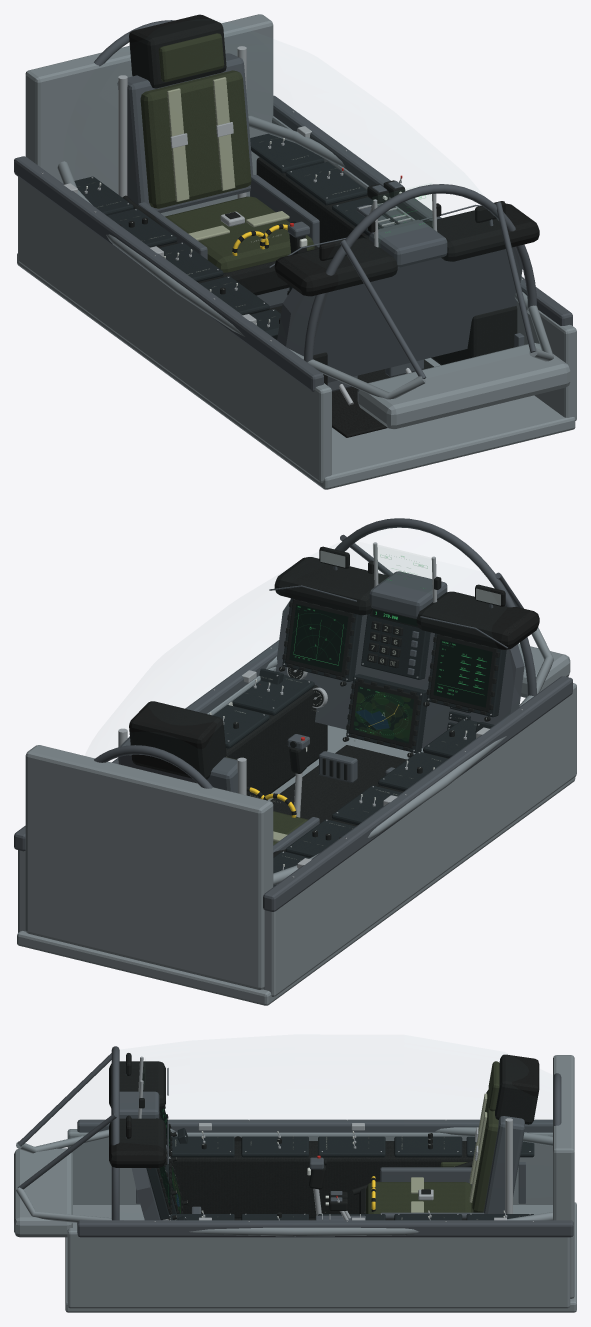
The model's file is FA18C_Cockpit.glb.
The picture shows the model from 3 angles, top to bottom: view 1: azimuth 30°, elevation 25°; view 2: azimuth 150°, elevation 25°; view 3: azimuth 270°, elevation 25°; orthographic projection. The views are drawn at different scales.
Parts seen in each view (by area): view 1: Cockpit_Static_CP_Structure_Grey, Cockpit_Static_CP_Edge_Anodized, Cockpit_Static_CP_Rubber, Cockpit_Static_CP_Seat_Olive, Cockpit_Static_CP_Panel_Charcoal, Canopy_Pivot_CP_Edge_Anodized, Cockpit_Static_CP_Harness_Sand, Canopy_Pivot_CP_Structure_Grey, Cockpit_Static_CP_Hardware_Steel; view 2: Cockpit_Static_CP_Structure_Grey, Cockpit_Static_CP_Rubber, Cockpit_Static_CP_Edge_Anodized, Cockpit_Static_CP_Panel_Charcoal, Canopy_Pivot_CP_Edge_Anodized, DDI_Right_Surface, DDI_Left_Surface, AMPCD_Surface, Canopy_Pivot_CP_Structure_Grey, Cockpit_Static_CP_Hardware_Steel, Rudder_Pedal_Left_CP_Edge_Anodized; view 3: Cockpit_Static_CP_Structure_Grey, Cockpit_Static_CP_Edge_Anodized, Cockpit_Static_CP_Rubber, Cockpit_Static_CP_Panel_Charcoal, Cockpit_Static_CP_Seat_Olive, Canopy_Pivot_CP_Structure_Grey, Canopy_Pivot_CP_Edge_Anodized, Cockpit_Static_CP_Hardware_Steel, Cockpit_Static_CP_Harness_Sand, Canopy_Pivot_CP_Hardware_Steel.
Boxes of the visible parts, left/top/right/bottom form: Cockpit_Static_CP_Structure_Grey: left=17, top=14, right=576, bottom=489; Cockpit_Static_CP_Edge_Anodized: left=14, top=53, right=572, bottom=391; Cockpit_Static_CP_Rubber: left=42, top=14, right=539, bottom=437; Cockpit_Static_CP_Seat_Olive: left=140, top=33, right=314, bottom=272; Cockpit_Static_CP_Panel_Charcoal: left=74, top=133, right=396, bottom=339; Canopy_Pivot_CP_Edge_Anodized: left=94, top=20, right=536, bottom=362; Cockpit_Static_CP_Harness_Sand: left=167, top=77, right=289, bottom=240; Canopy_Pivot_CP_Structure_Grey: left=57, top=116, right=529, bottom=359; Cockpit_Static_CP_Hardware_Steel: left=41, top=46, right=522, bottom=341; Cockpit_Static_CP_Structure_Grey: left=17, top=627, right=576, bottom=1005; Cockpit_Static_CP_Rubber: left=129, top=546, right=539, bottom=857; Cockpit_Static_CP_Edge_Anodized: left=14, top=534, right=572, bottom=911; Cockpit_Static_CP_Panel_Charcoal: left=213, top=598, right=506, bottom=886; Canopy_Pivot_CP_Edge_Anodized: left=94, top=518, right=536, bottom=788; DDI_Right_Surface: left=433, top=639, right=492, bottom=707; DDI_Left_Surface: left=289, top=604, right=348, bottom=672; AMPCD_Surface: left=353, top=686, right=413, bottom=743; Canopy_Pivot_CP_Structure_Grey: left=266, top=656, right=533, bottom=885; Cockpit_Static_CP_Hardware_Steel: left=118, top=542, right=522, bottom=877; Rudder_Pedal_Left_CP_Edge_Anodized: left=319, top=751, right=357, bottom=782; Cockpit_Static_CP_Structure_Grey: left=14, top=1055, right=576, bottom=1312; Cockpit_Static_CP_Edge_Anodized: left=17, top=1053, right=573, bottom=1237; Cockpit_Static_CP_Rubber: left=109, top=1053, right=539, bottom=1220; Cockpit_Static_CP_Panel_Charcoal: left=146, top=1128, right=534, bottom=1220; Cockpit_Static_CP_Seat_Olive: left=366, top=1061, right=499, bottom=1213; Canopy_Pivot_CP_Structure_Grey: left=120, top=1127, right=552, bottom=1236; Canopy_Pivot_CP_Edge_Anodized: left=111, top=1046, right=561, bottom=1220; Cockpit_Static_CP_Hardware_Steel: left=138, top=1056, right=533, bottom=1221; Cockpit_Static_CP_Harness_Sand: left=410, top=1093, right=487, bottom=1212; Canopy_Pivot_CP_Hardware_Steel: left=198, top=1123, right=506, bottom=1220.
Bounding box in the file's own units: 1.18 × 1.1 × 2.58.
19 materials, 9 textured.
